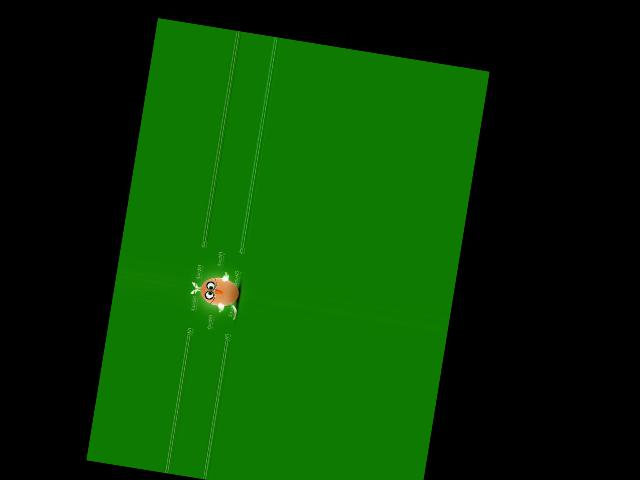egg: (198, 275, 241, 309)
